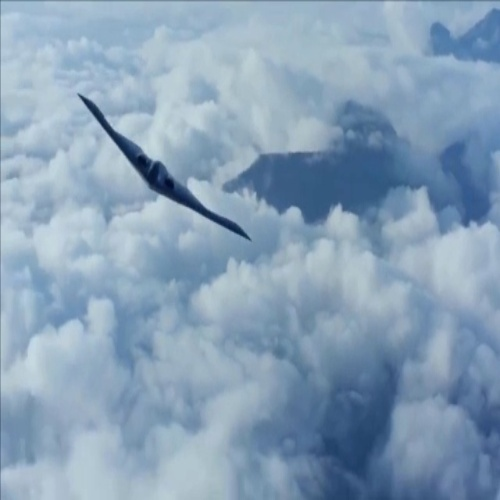uav961: (74, 91, 253, 245)
